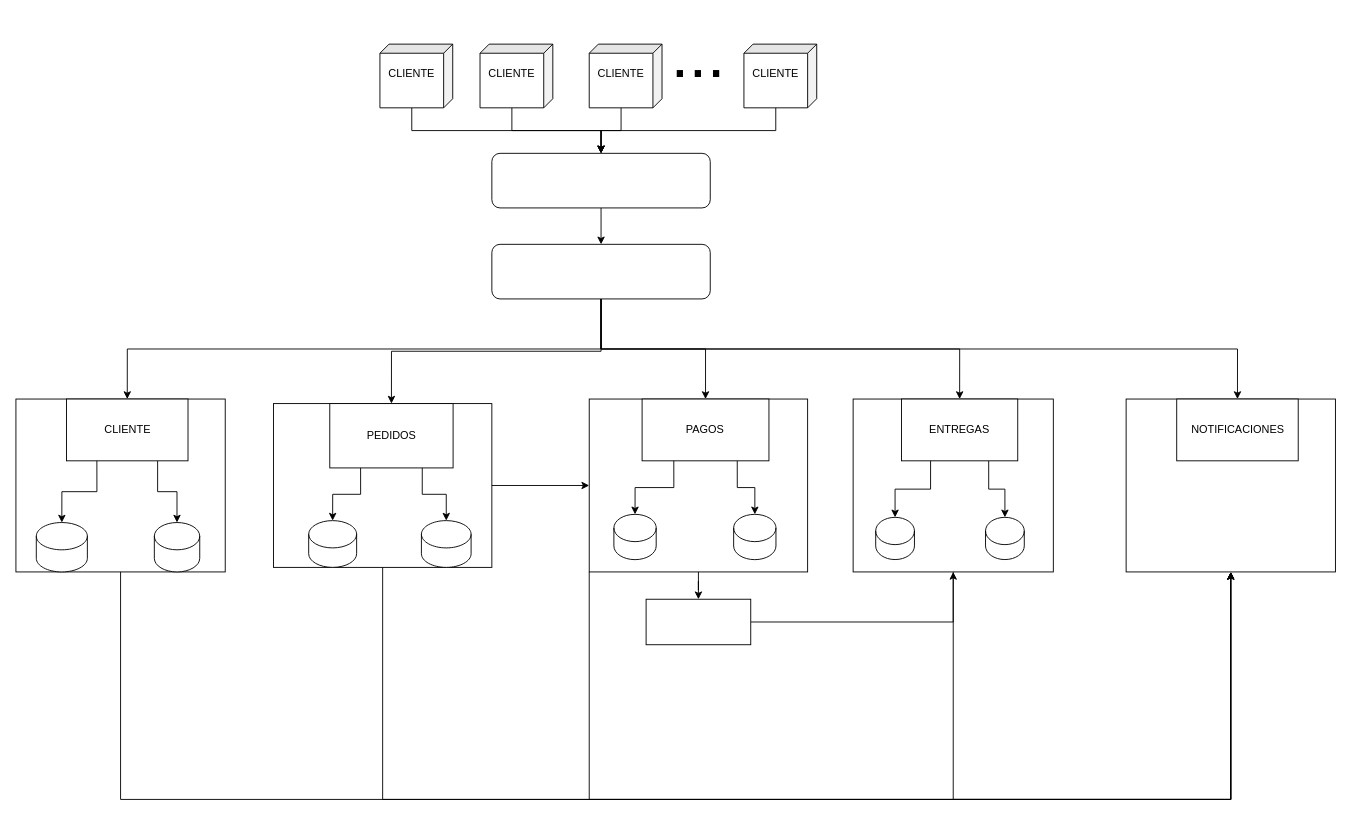
The diagram is 1351 pixels wide and 823 high, and some of its shapes have lost their labels. The shapes that lost their labels are listed below. From the top down, each one's box as (x1, y1, x2, y2) in pixels, then its label:
(491, 152, 710, 208): API GATEWAY
(491, 243, 710, 299): BALANCEADOR DE CARGA
(645, 598, 751, 645): API MERCADOLIBRE
